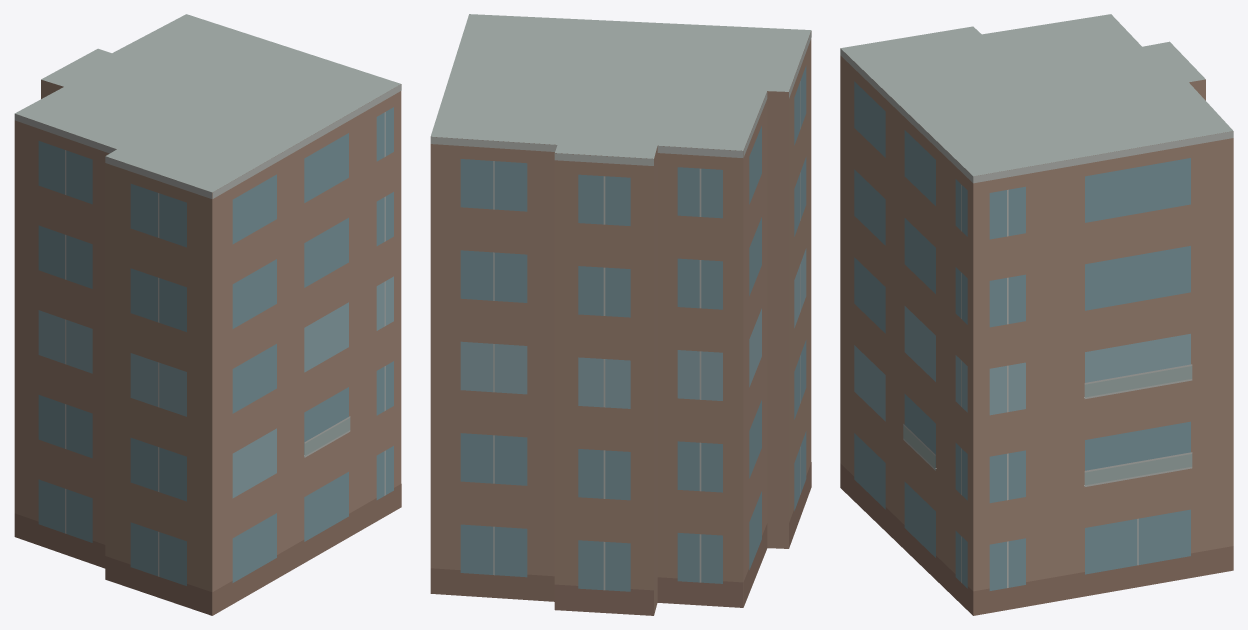
The model's file is survey-upis-32973144.glb.
The picture shows the model from 3 angles, left to right: view 1: azimuth 30°, elevation 25°; view 2: azimuth 150°, elevation 25°; view 3: azimuth 270°, elevation 25°; orthographic projection. The views are drawn at different scales.
Visible parts, largest first — view 1: survey-upis-32973144.tmp; view 2: survey-upis-32973144.tmp; view 3: survey-upis-32973144.tmp.
Boxes of the visible parts, bbox=[...] form: survey-upis-32973144.tmp: bbox=[14, 14, 401, 615]; survey-upis-32973144.tmp: bbox=[430, 14, 811, 615]; survey-upis-32973144.tmp: bbox=[840, 14, 1233, 615].
Bounding box in the file's own units: 12.09 × 15.25 × 12.38.
